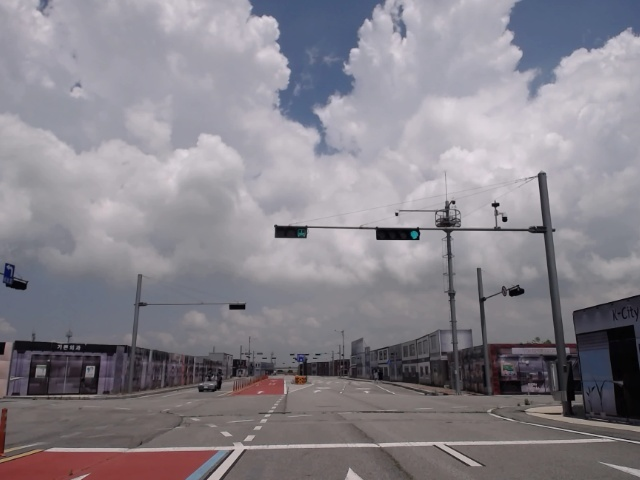straight_green_4: (376, 226, 421, 239)
